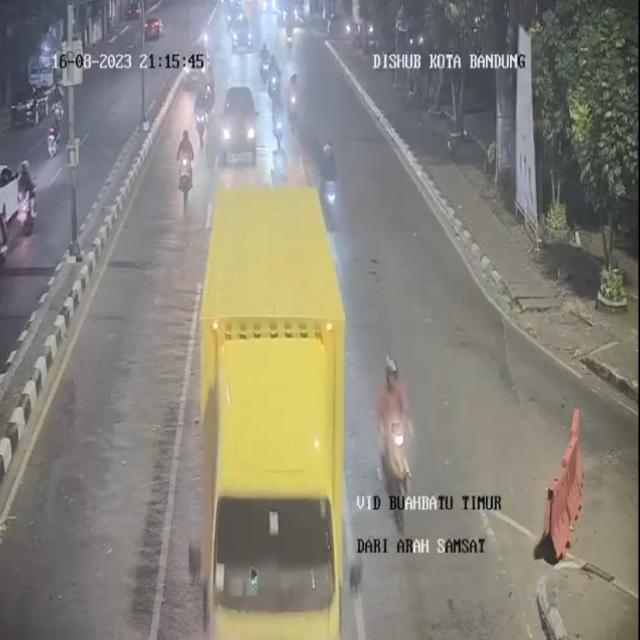cars: (220, 79, 260, 164)
motorcycle: (371, 342, 418, 528), (322, 139, 348, 221), (175, 129, 197, 208), (196, 83, 213, 145), (270, 89, 287, 145), (285, 73, 301, 130), (264, 51, 279, 95), (259, 43, 273, 88)
truck: (191, 166, 352, 636)
